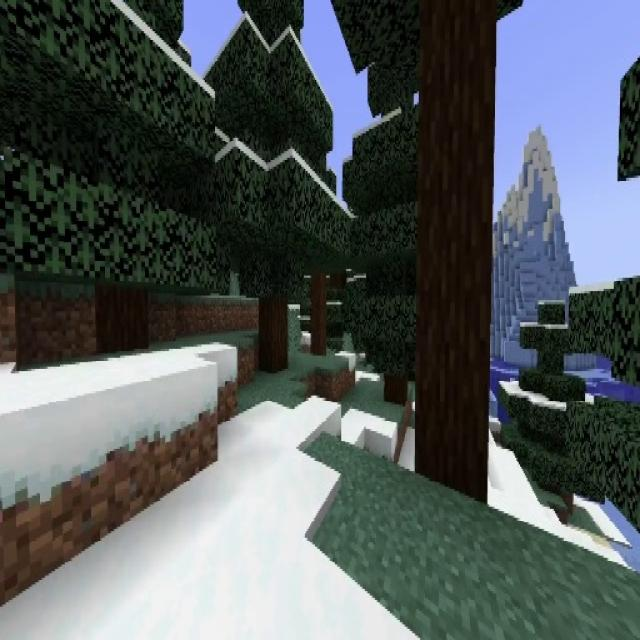spruce: (0, 0, 215, 350), (208, 0, 339, 370), (342, 53, 460, 404), (501, 278, 600, 527)
spruce_log: (419, 6, 489, 500), (97, 289, 144, 355), (258, 297, 289, 369), (312, 272, 328, 350), (384, 372, 407, 405)
